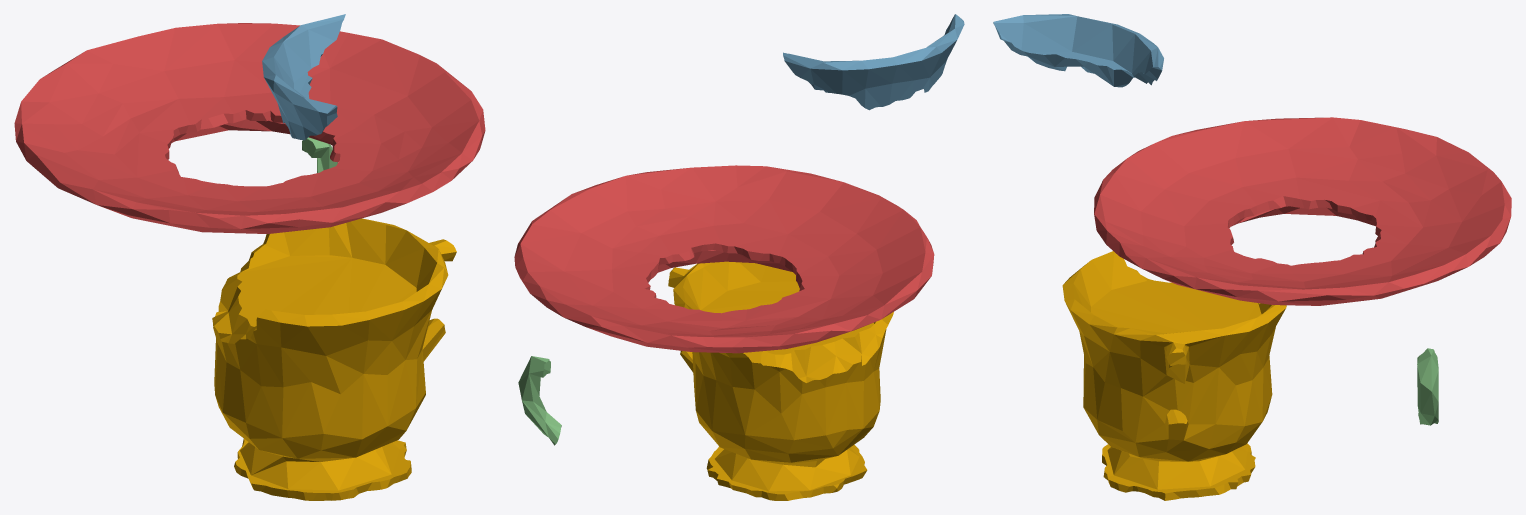
The model's file is fractured_51_4pcs_transformed.glb.
3 views of the same model, side by side, from view 1: azimuth 30°, elevation 25°; view 2: azimuth 150°, elevation 25°; view 3: azimuth 270°, elevation 25° (orthographic). The views are drawn at different scales.
Parts seen in each view (by area): view 1: piece_1.obj, piece_0.obj, piece_2.obj, piece_3.obj; view 2: piece_1.obj, piece_0.obj, piece_2.obj, piece_3.obj; view 3: piece_1.obj, piece_0.obj, piece_2.obj, piece_3.obj.
Part boxes in pixels (x1,y1,x2,y2): piece_1.obj: (14, 23, 485, 233); piece_0.obj: (212, 218, 456, 500); piece_2.obj: (262, 14, 345, 140); piece_3.obj: (302, 137, 337, 172); piece_1.obj: (514, 165, 934, 353); piece_0.obj: (668, 261, 893, 500); piece_2.obj: (783, 14, 964, 110); piece_3.obj: (518, 356, 561, 445); piece_1.obj: (1094, 117, 1511, 305); piece_0.obj: (1062, 251, 1286, 500); piece_2.obj: (993, 14, 1163, 87); piece_3.obj: (1417, 348, 1438, 425).
Bounding box in the file's own units: 1 × 1.07 × 1.24.
